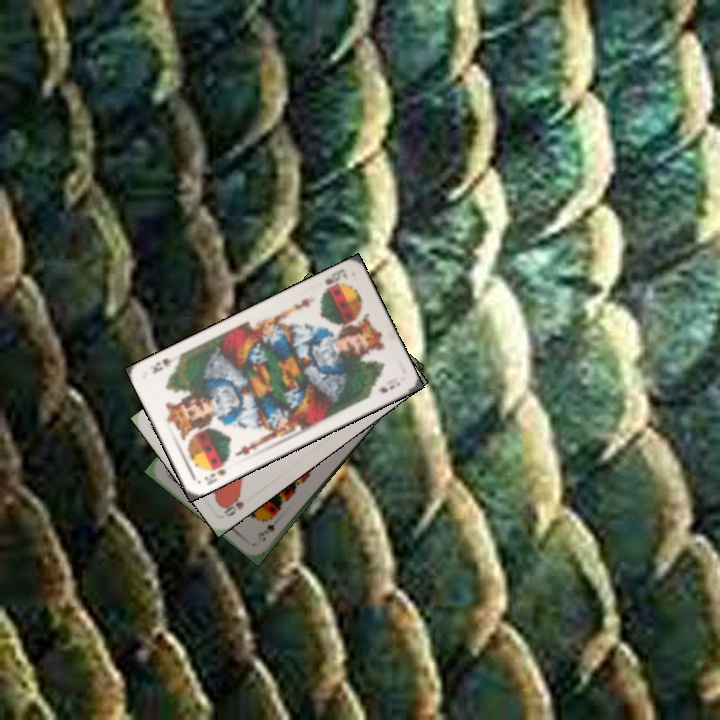HO: (219, 492, 247, 519)
S9: (253, 520, 277, 544)
SK: (200, 464, 229, 488), (321, 265, 351, 288)
